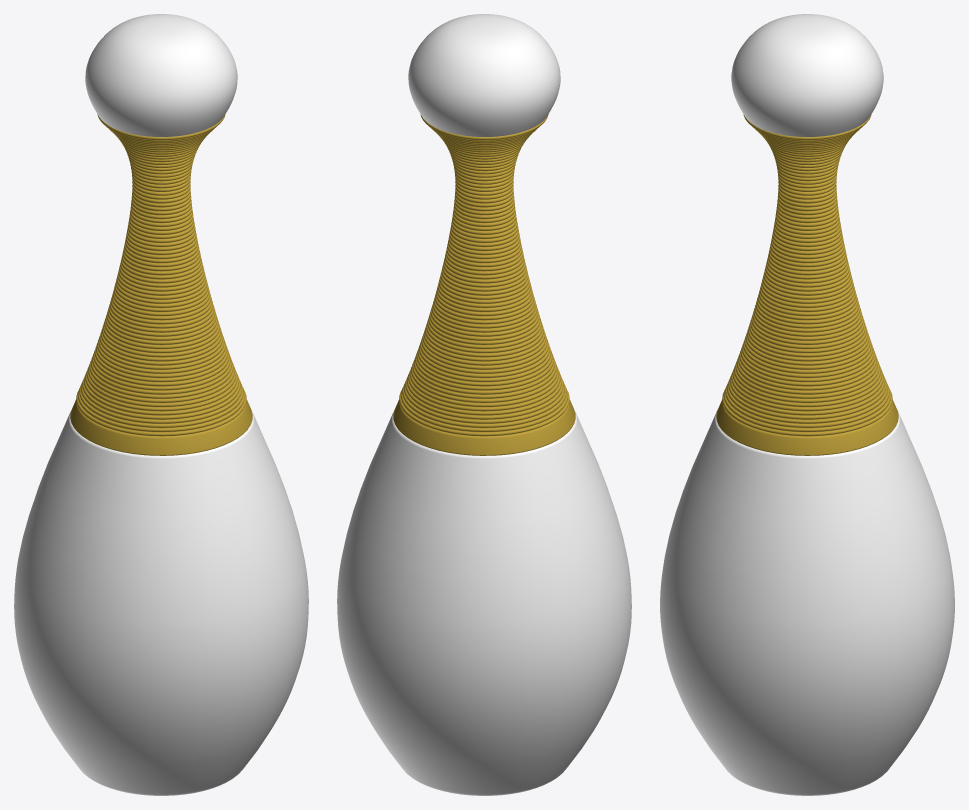
File: jadore_dior.glb
The picture shows the model from 3 angles, left to right: view 1: azimuth 30°, elevation 25°; view 2: azimuth 150°, elevation 25°; view 3: azimuth 270°, elevation 25°; orthographic projection.
Parts seen in each view (by area): view 1: parfum08_0; view 2: parfum08_0; view 3: parfum08_0.
Part boxes in pixels (x1=…): parfum08_0: x1=14, y1=14, x2=308, y2=795; parfum08_0: x1=337, y1=14, x2=631, y2=795; parfum08_0: x1=660, y1=14, x2=954, y2=795.
Size of the model in its own units: 0.0581 by 0.16 by 0.0581.
